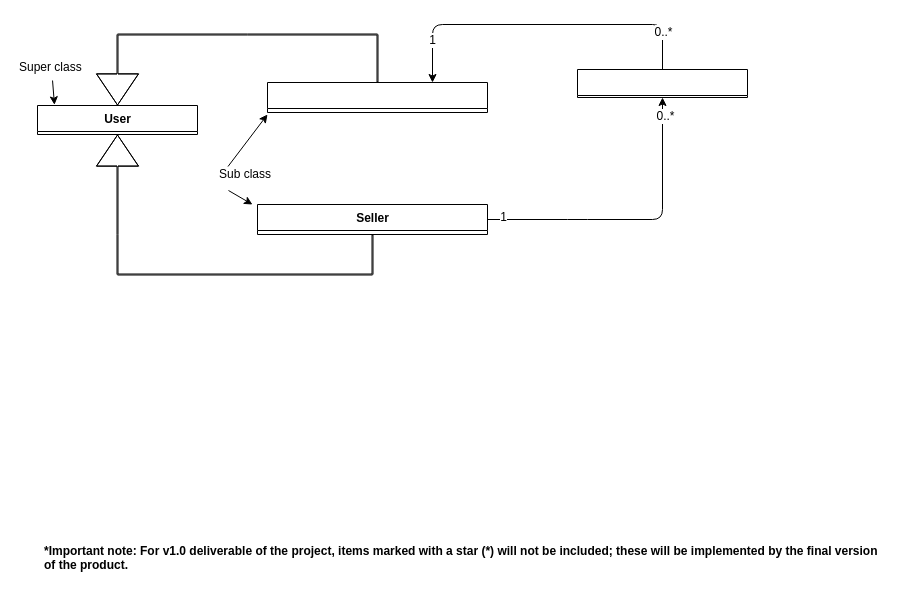
This 899x591 diagram has some shape labels left out. Each missing label, with the box of its shape:
Buyer: (266, 82, 488, 112)
Item: (576, 68, 748, 98)
